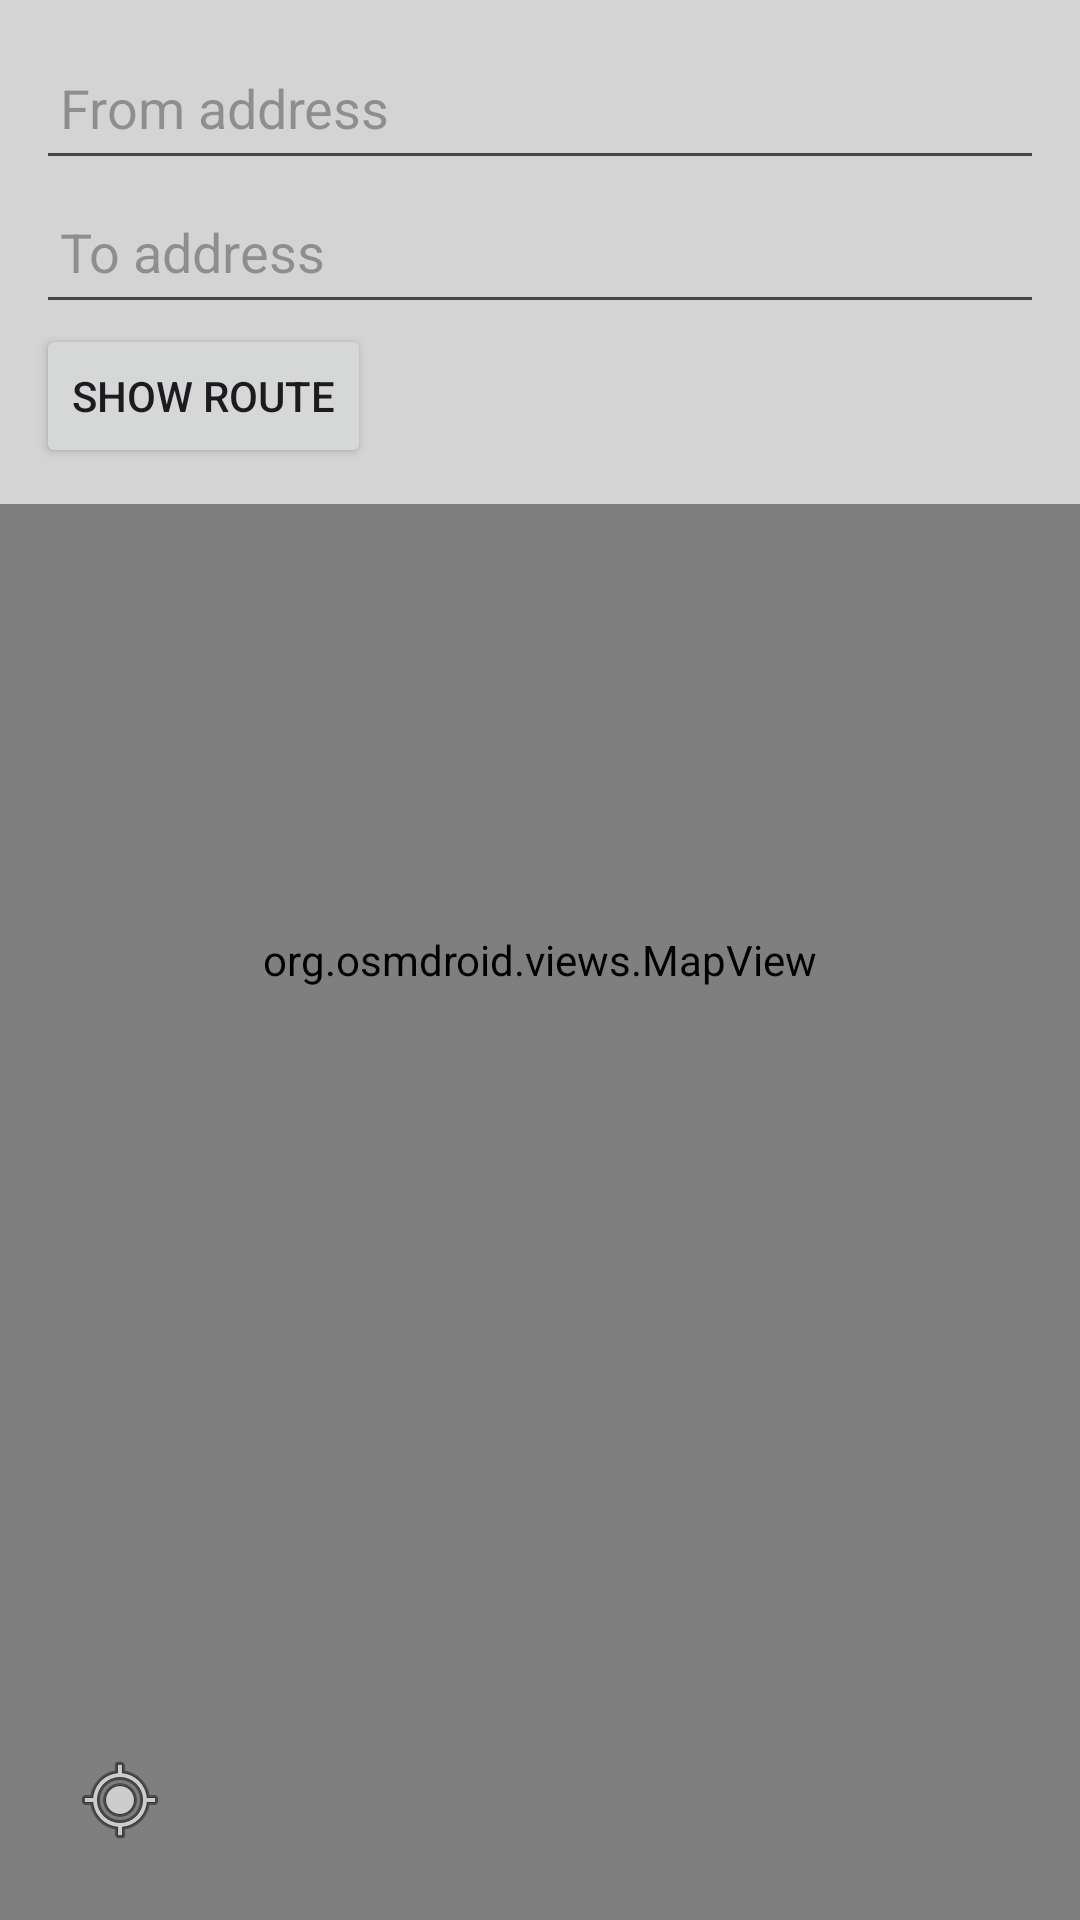

Screen size 1080px×1920px. Icon name, then its box in pixels as box(x1, y1, x2, y2):
My Location: box(82, 1762, 158, 1838)
